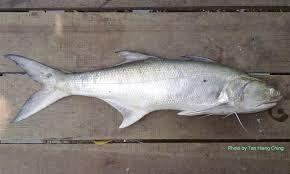Fourfinger Threadfish: (4, 50, 282, 131)
